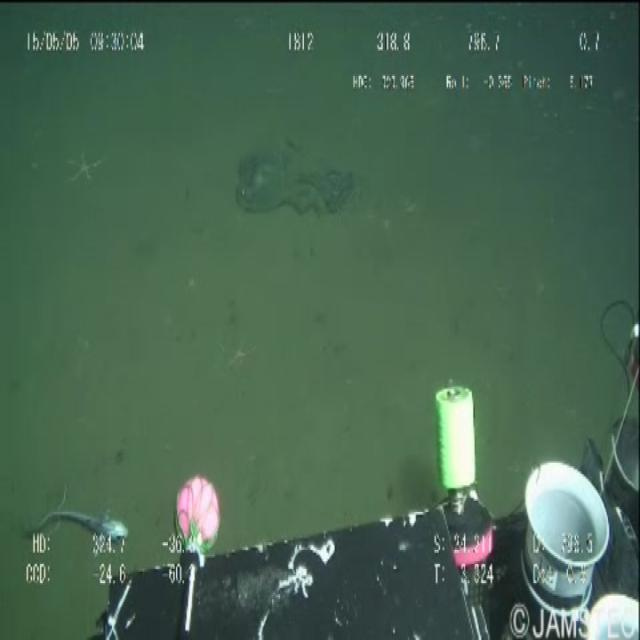Rope: (233, 135, 366, 228)
